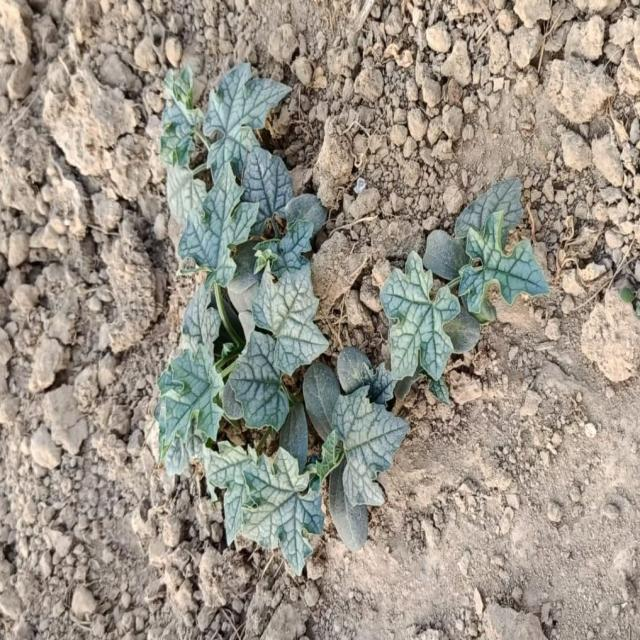plant: (155, 63, 549, 574)
